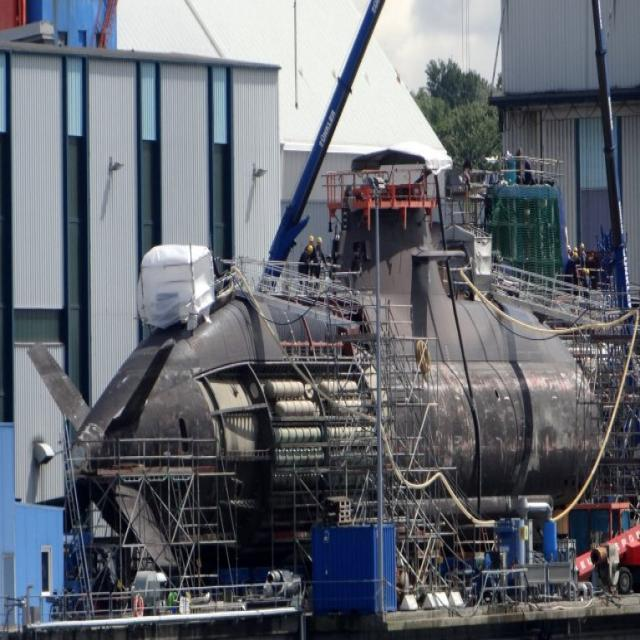submarine: (48, 202, 609, 532)
